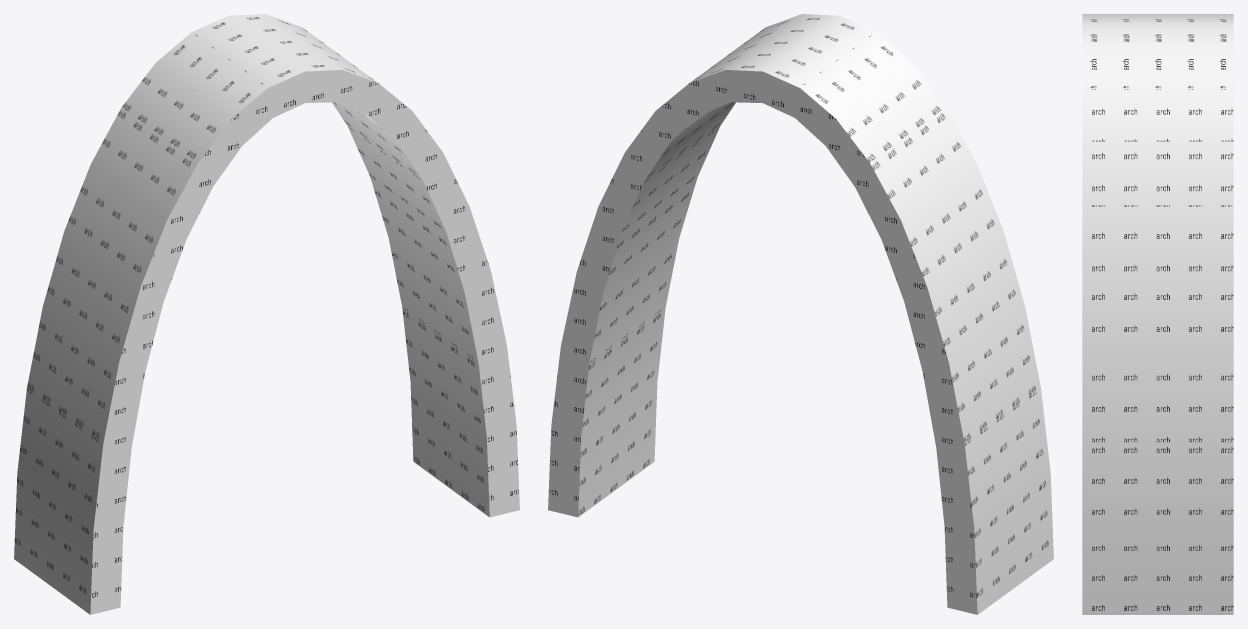
File: Archwaydoor (8).fbx
The picture shows the model from 3 angles, left to right: view 1: azimuth 30°, elevation 25°; view 2: azimuth 150°, elevation 25°; view 3: azimuth 270°, elevation 25°; orthographic projection.
Parts seen in each view (by area): view 1: Door__8_; view 2: Door__8_; view 3: Door__8_.
Boxes of the visible parts, <box> form: Door__8_: <box>14,14,519,614</box>; Door__8_: <box>548,14,1053,614</box>; Door__8_: <box>1082,14,1233,614</box>.
Bounding box in the file's own units: 760 × 830 × 234.
Materials: 1 (1 with a texture image).
